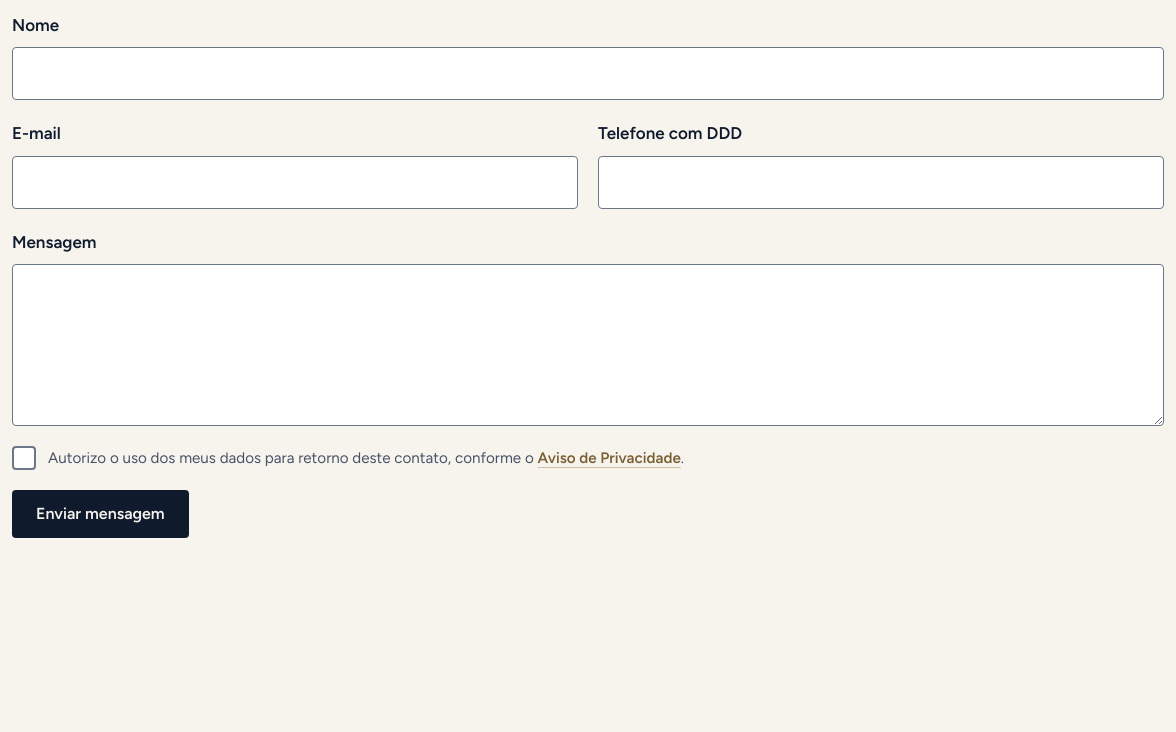
Test: ContactForm › envia com sucesso
In the field labelled "Nome": (588, 74) [12,47,1164,100], type "Pessoa de Teste"
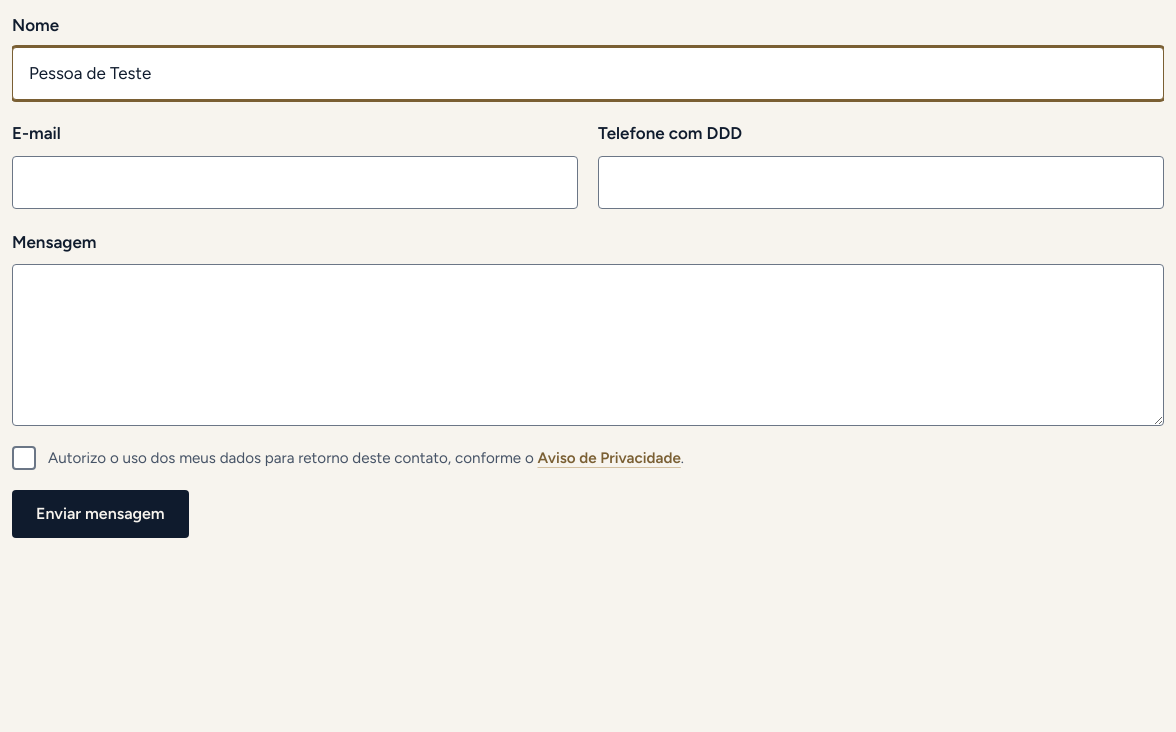
In the field labelled "E-mail": (295, 182) [12,156,578,209], type "pessoa@teste.example"
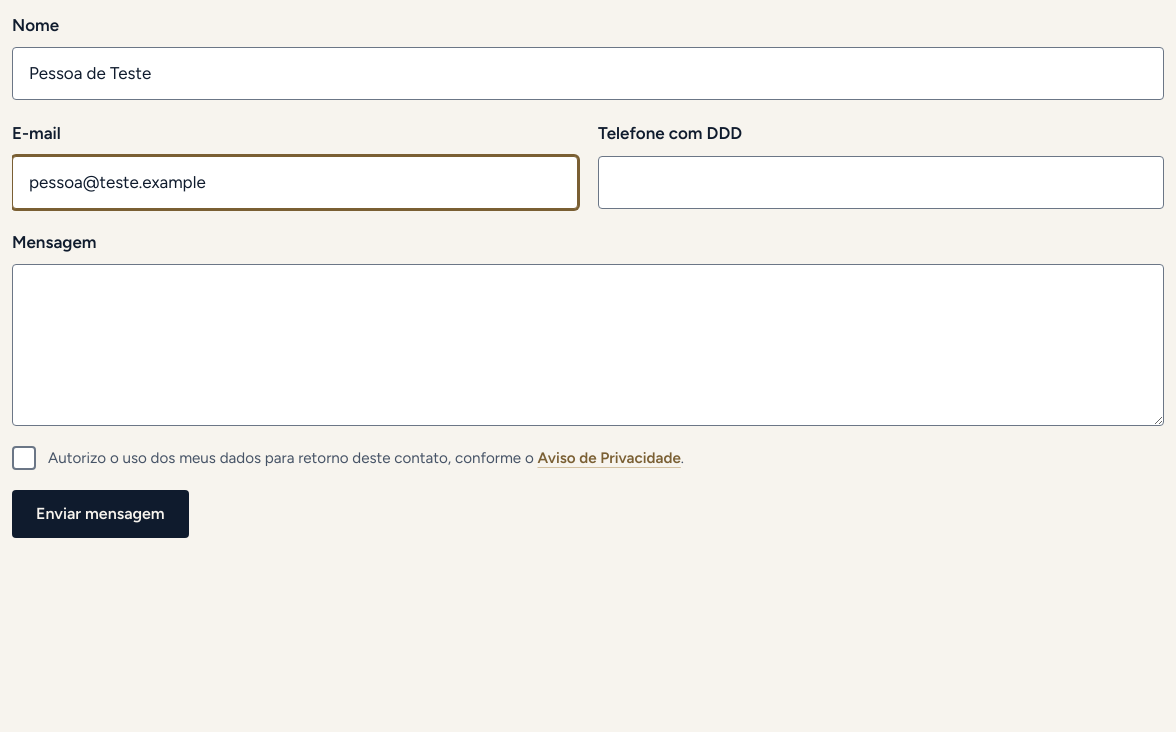
In the field labelled "Telefone com DDD": (881, 182) [598,156,1164,209], type "(00) 90000-0000"
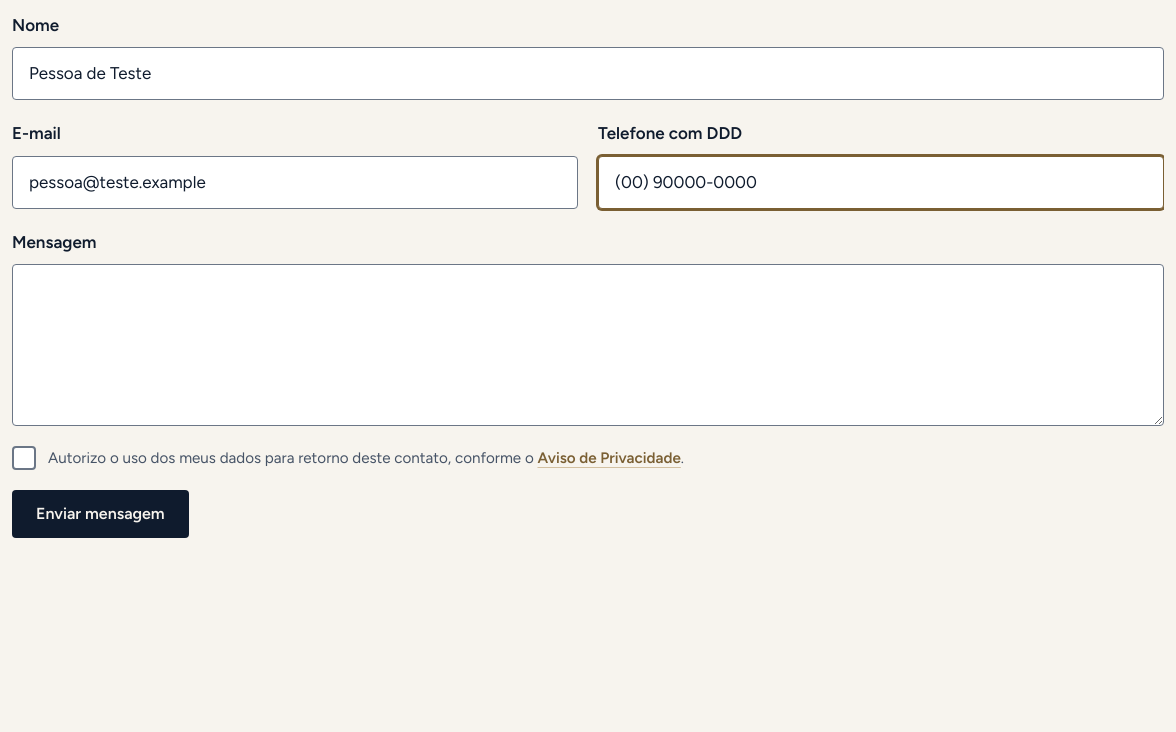
In the text box labelled "Mensagem": (588, 345) [12,264,1164,426], type "Gostaria de agendar uma consulta."
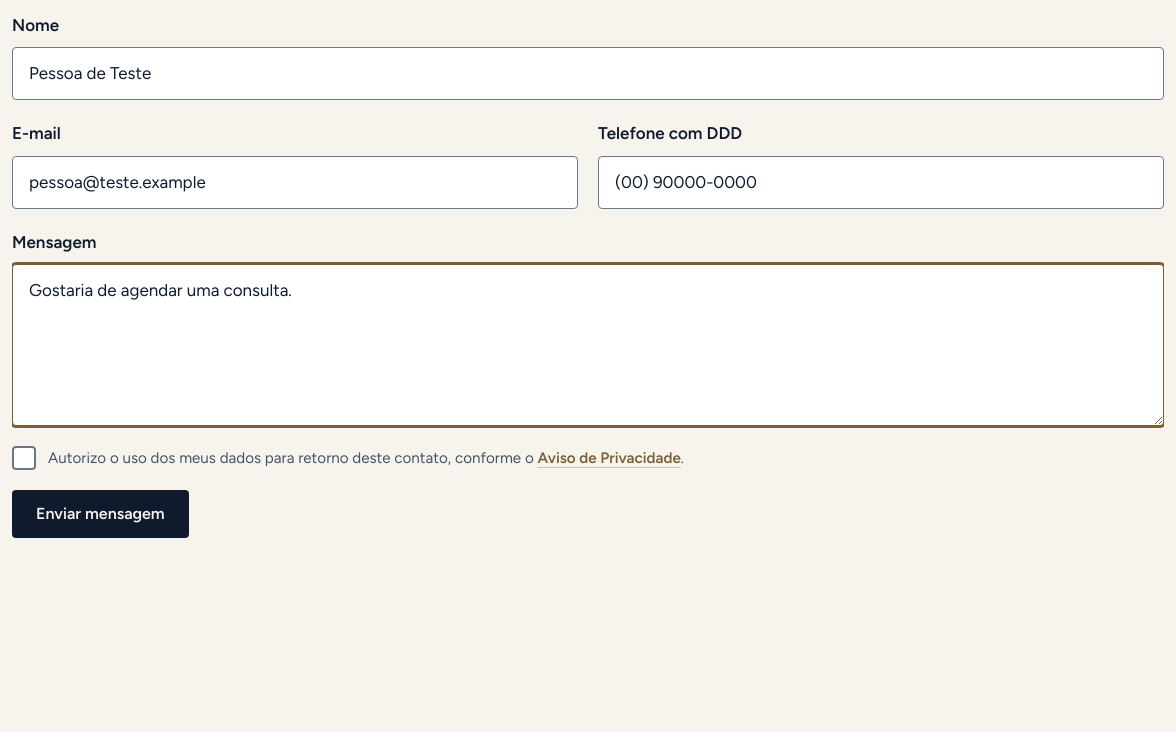
Click the checkbox: (24, 458) [12,446,36,470]
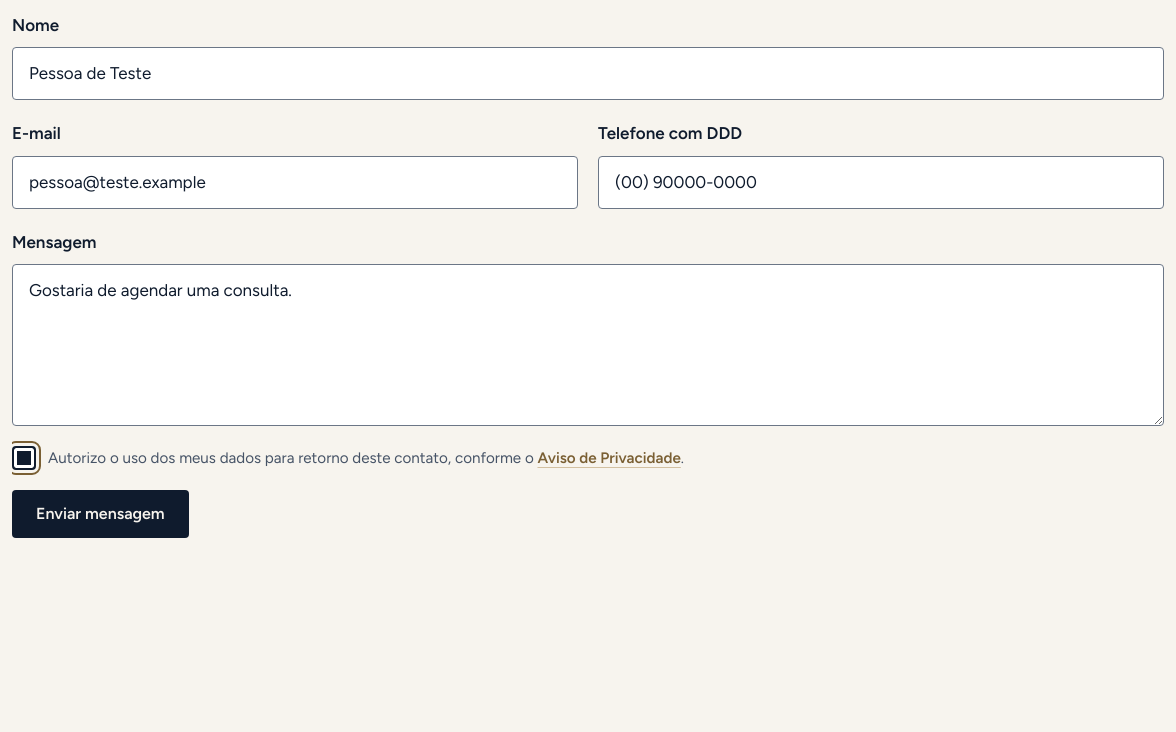
Click the button "Enviar mensagem": (100, 514) [12,490,189,538]
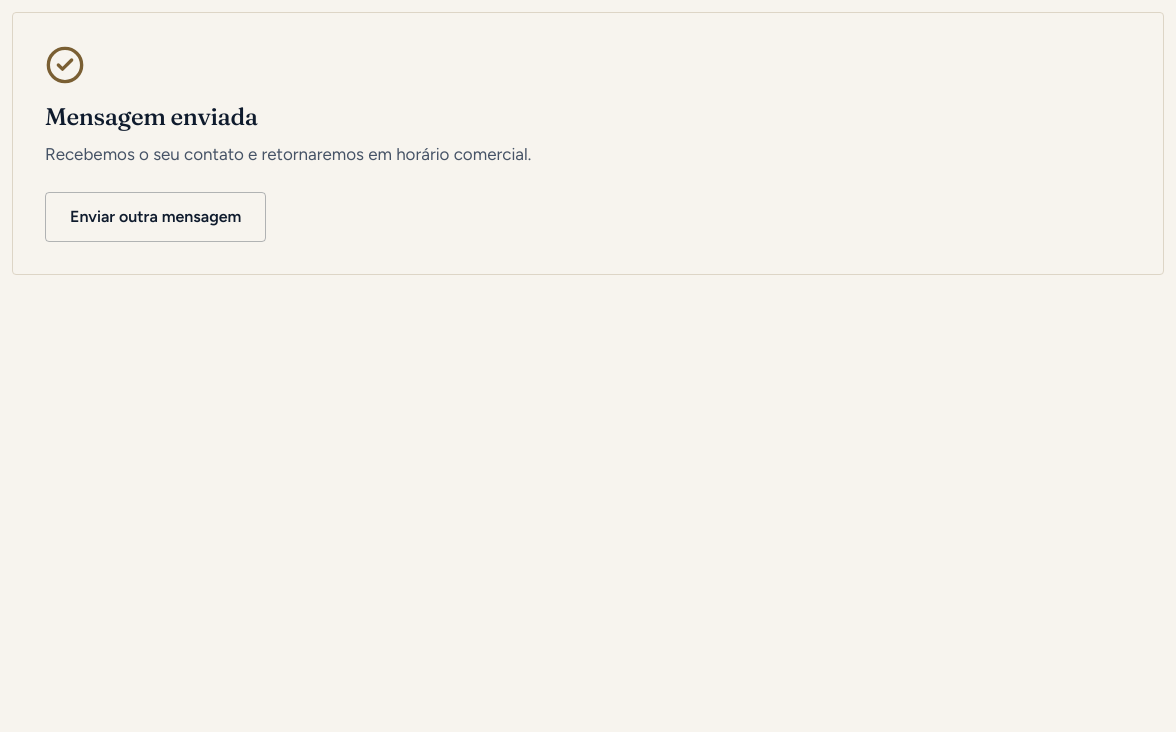
Result: the heading "Mensagem enviada" is shown at [45,102,258,131]
